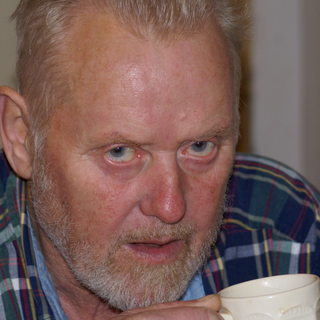eye: (95, 140, 142, 165), (178, 132, 221, 158)
